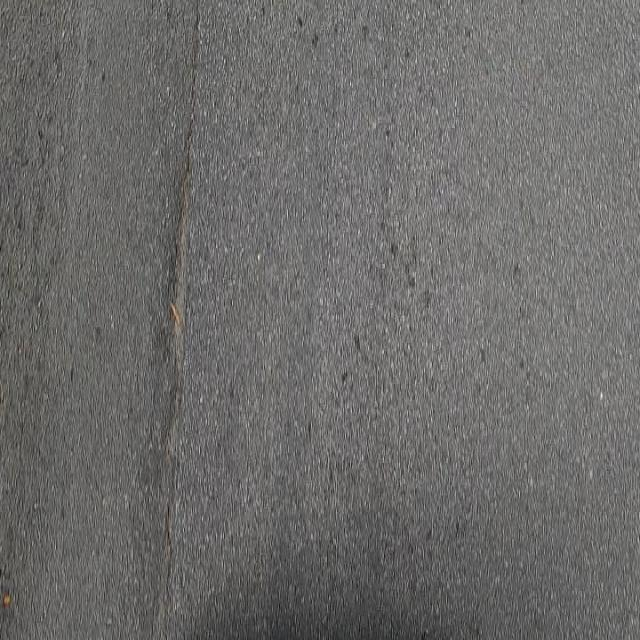cracks: (145, 0, 220, 639)
